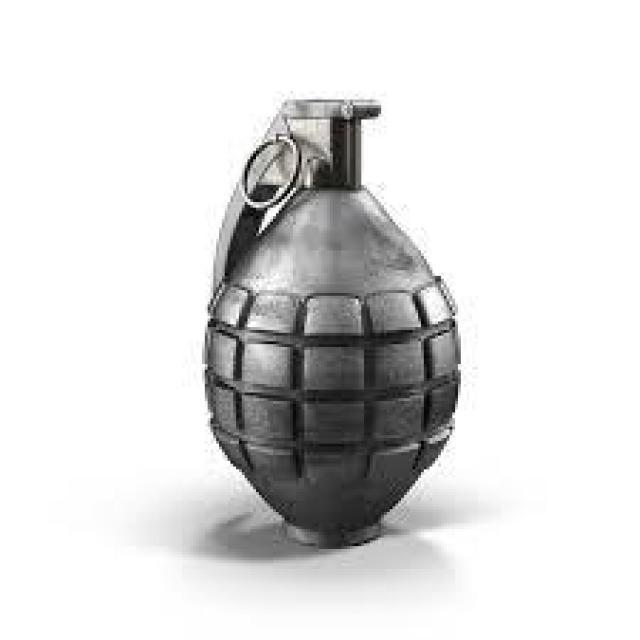grenade: (194, 80, 464, 544)
